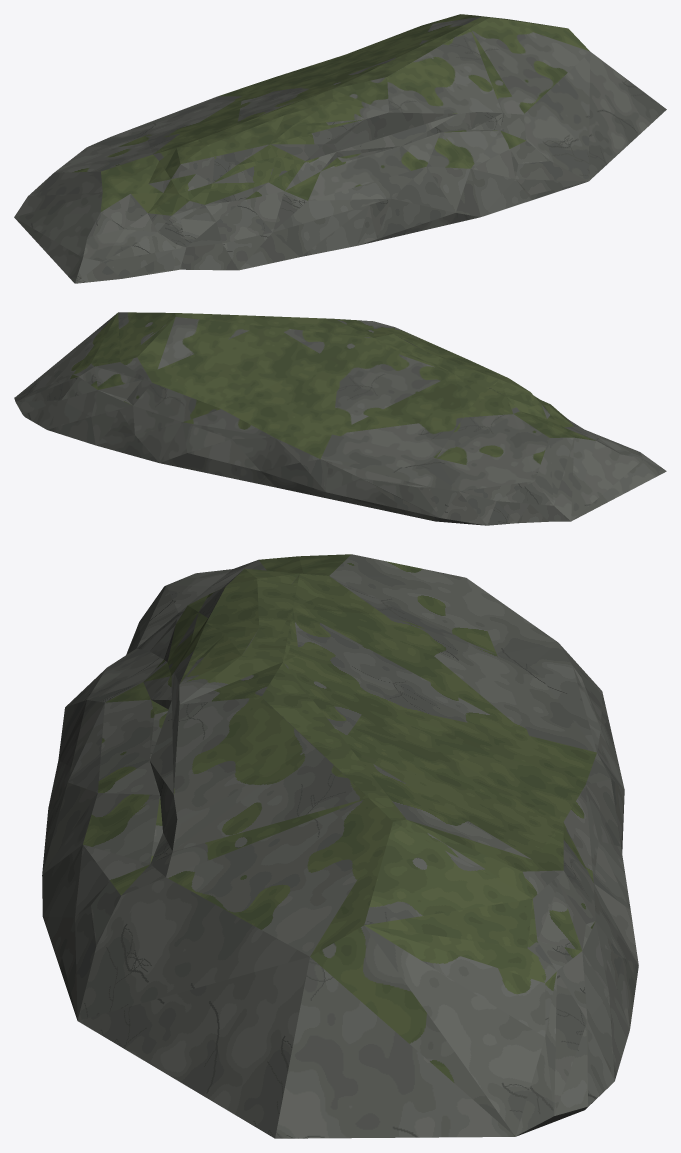
File: redwood_slab4_v1.fbx
3 renders of one model, top to bottom at view 1: azimuth 30°, elevation 25°; view 2: azimuth 150°, elevation 25°; view 3: azimuth 270°, elevation 25°, orthographic. The views are drawn at different scales.
Parts seen in each view (by area): view 1: redwood_slab4_v1_s3_lod0, redwood_slab4_v1_s1_lod0, redwood_slab4_v1_s4_lod0, redwood_slab4_v1_s5_lod0, redwood_slab4_v1_s0_lod0, redwood_slab4_v1_s2_lod0; view 2: redwood_slab4_v1_s2_lod0, redwood_slab4_v1_s5_lod0, redwood_slab4_v1_s0_lod0, redwood_slab4_v1_s1_lod0, redwood_slab4_v1_s3_lod0, redwood_slab4_v1_s4_lod0; view 3: redwood_slab4_v1_s1_lod0, redwood_slab4_v1_s3_lod0, redwood_slab4_v1_s2_lod0, redwood_slab4_v1_s0_lod0, redwood_slab4_v1_s5_lod0, redwood_slab4_v1_s4_lod0.
Boxes of the visible parts, x1=… form: redwood_slab4_v1_s3_lod0: x1=303, y1=51, x2=531, y2=240; redwood_slab4_v1_s1_lod0: x1=416, y1=14, x2=666, y2=200; redwood_slab4_v1_s4_lod0: x1=174, y1=104, x2=377, y2=270; redwood_slab4_v1_s5_lod0: x1=14, y1=132, x2=199, y2=283; redwood_slab4_v1_s0_lod0: x1=124, y1=84, x2=321, y2=138; redwood_slab4_v1_s2_lod0: x1=210, y1=22, x2=433, y2=99; redwood_slab4_v1_s2_lod0: x1=102, y1=324, x2=339, y2=497; redwood_slab4_v1_s5_lod0: x1=408, y1=386, x2=666, y2=525; redwood_slab4_v1_s0_lod0: x1=324, y1=348, x2=482, y2=515; redwood_slab4_v1_s1_lod0: x1=14, y1=312, x2=271, y2=446; redwood_slab4_v1_s3_lod0: x1=268, y1=316, x2=420, y2=364; redwood_slab4_v1_s4_lod0: x1=404, y1=339, x2=568, y2=419; redwood_slab4_v1_s1_lod0: x1=59, y1=746, x2=630, y2=1138; redwood_slab4_v1_s3_lod0: x1=42, y1=643, x2=369, y2=965; redwood_slab4_v1_s2_lod0: x1=341, y1=702, x2=638, y2=1022; redwood_slab4_v1_s0_lod0: x1=274, y1=591, x2=624, y2=789; redwood_slab4_v1_s5_lod0: x1=126, y1=554, x2=608, y2=717; redwood_slab4_v1_s4_lod0: x1=47, y1=572, x2=302, y2=821.
Size of what is drawn, in the model's own units: 989 by 159 by 452.
